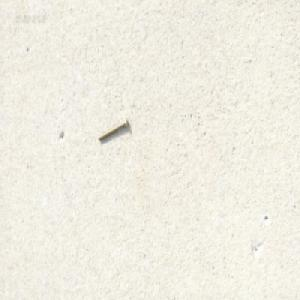Bolt: (97, 117, 128, 142)
